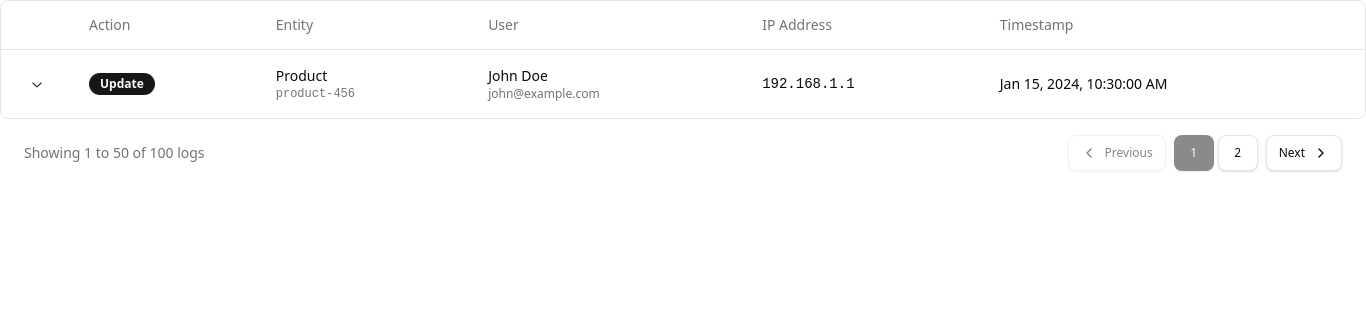
Test: AuditLogsTable › should display "No changes recorded" when changes are empty
Expected: the text "Product" is shown, 276,66 -> 327,84
Expand row
Click the button named "expand row". click: (37, 84)
box: 17,66 -> 57,102
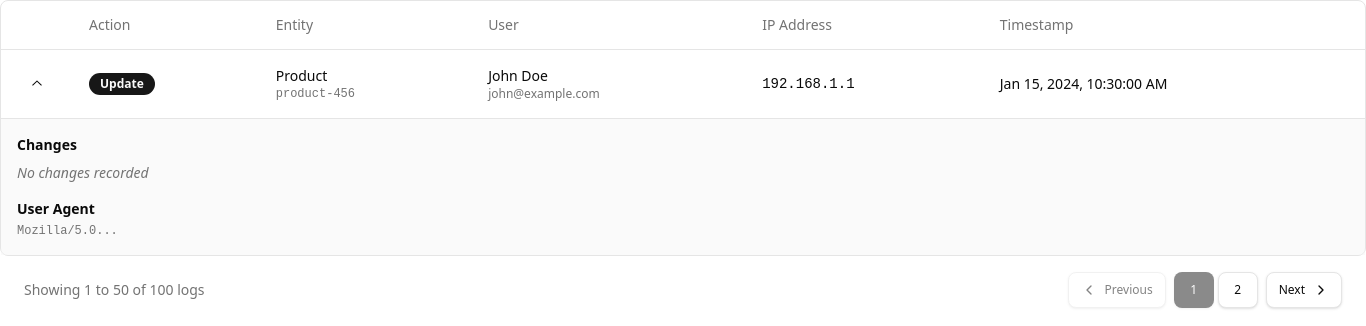
Expected: the text "No changes recorded" is shown, 17,162 -> 149,182
